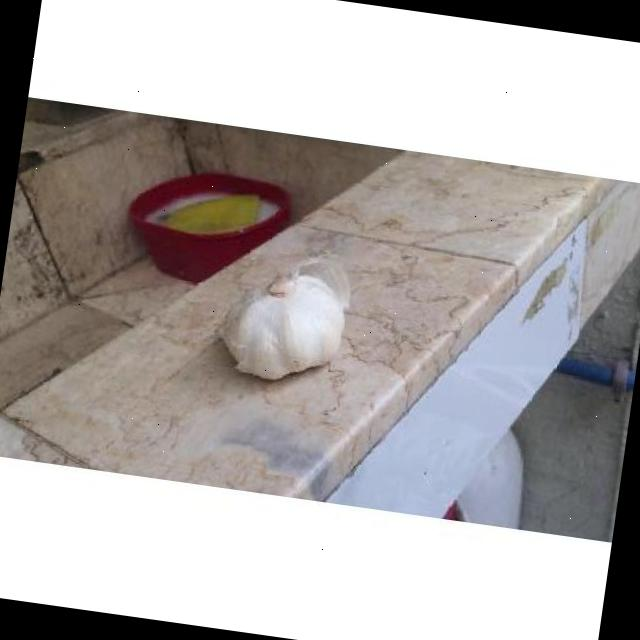garlic: (223, 258, 349, 378)
